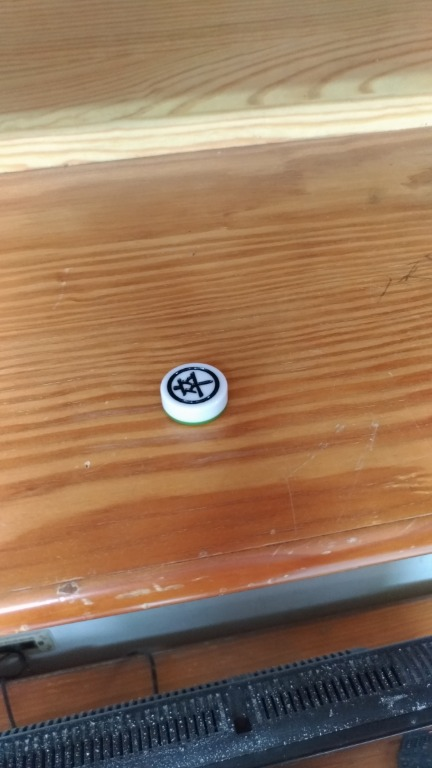b-pawn: (153, 350, 244, 429)
